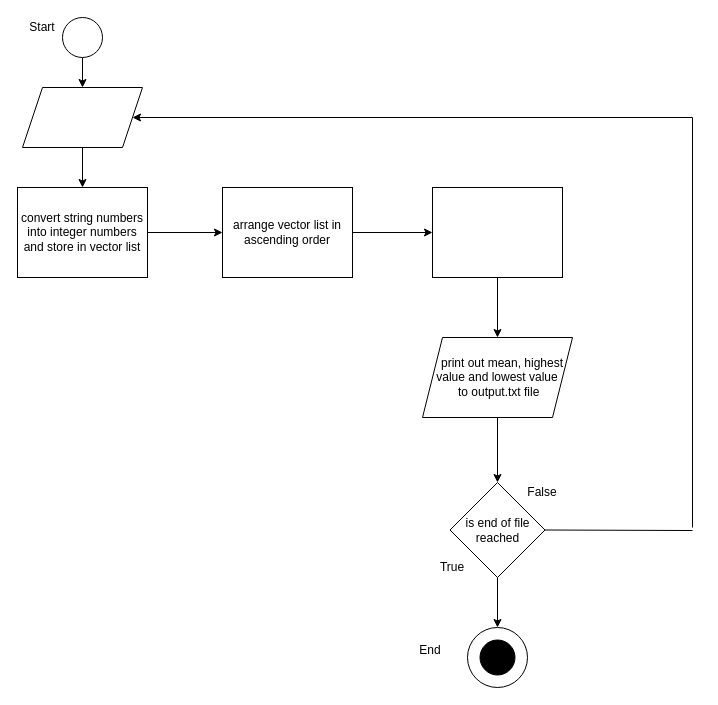
Some shapes in this 718 by 705 pixel diagram are drawn without their labels. Here are the shapes that lost their labels. From the top down, the centre of each, then its label:
(x=82, y=117): Read in line from input.txt file
(x=497, y=232): calculate mean of numbers in vector list and get highest and lowest value
